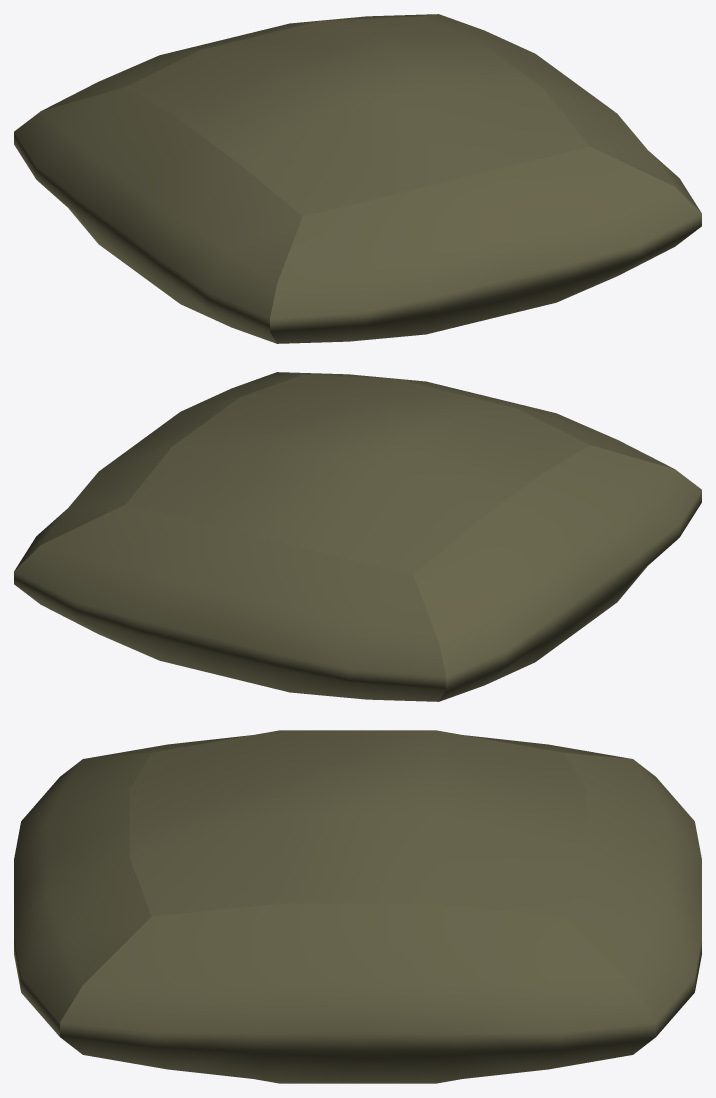
The model's file is Pillow_01.fbx.
3 renders of one model, top to bottom at view 1: azimuth 30°, elevation 25°; view 2: azimuth 150°, elevation 25°; view 3: azimuth 270°, elevation 25°, orthographic. The views are drawn at different scales.
Visible parts, largest first — view 1: Pillow_01; view 2: Pillow_01; view 3: Pillow_01.
Boxes of the visible parts, bbox=[...] form: Pillow_01: bbox=[14, 14, 701, 343]; Pillow_01: bbox=[14, 372, 701, 701]; Pillow_01: bbox=[14, 730, 701, 1083].
Size of the model in its own units: 242 by 101 by 260.
